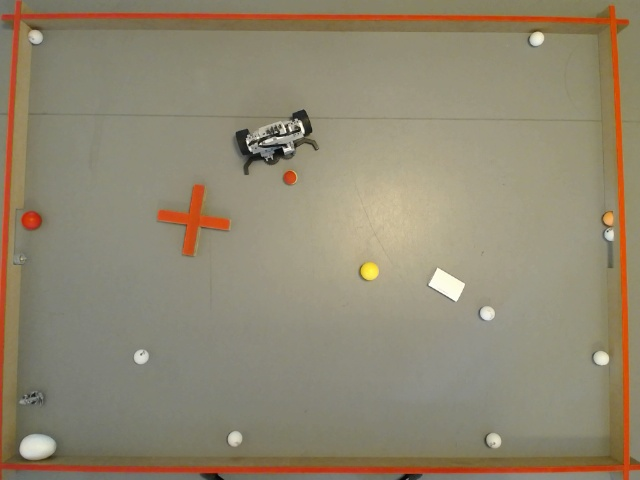big_goal: (2, 206, 21, 264)
cross: (155, 186, 231, 255)
egg: (21, 434, 56, 458)
orange: (606, 213, 611, 222)
robot: (234, 108, 318, 171)
small_goal: (604, 213, 624, 267)
wall: (596, 5, 628, 470), (0, 3, 32, 465), (2, 12, 626, 33), (2, 453, 628, 470)
white: (486, 432, 500, 446), (595, 351, 608, 363), (228, 432, 240, 444), (530, 33, 542, 45), (482, 306, 492, 320), (135, 351, 146, 362), (30, 32, 40, 42), (606, 231, 611, 240)
